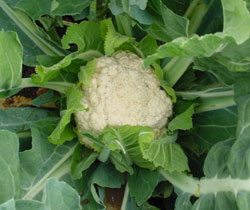cauliflower: (75, 50, 173, 153)
